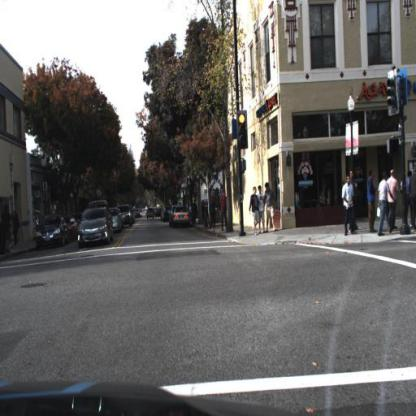car: (79, 205, 112, 254), (35, 210, 69, 253), (171, 204, 194, 231), (114, 211, 123, 231), (164, 206, 172, 224)
pedestrian: (366, 172, 379, 240), (378, 175, 390, 237), (344, 177, 356, 237), (347, 175, 358, 235), (3, 203, 14, 256), (388, 167, 397, 231), (349, 171, 357, 234), (349, 171, 358, 227), (265, 184, 274, 231), (409, 167, 416, 227), (251, 187, 259, 237), (12, 210, 22, 249), (211, 194, 219, 242), (407, 168, 413, 231), (258, 186, 266, 232), (210, 195, 219, 235), (258, 186, 266, 230), (221, 191, 228, 239), (252, 189, 259, 232), (13, 211, 22, 244)
trafficLight: (237, 110, 249, 150)
